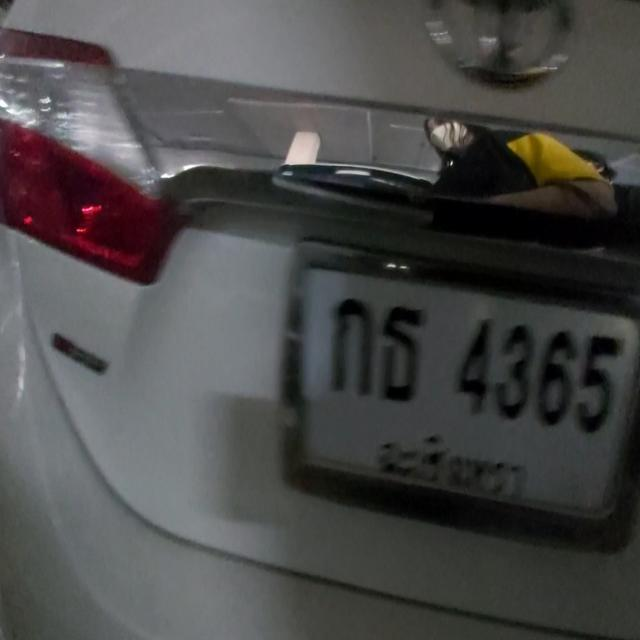license_plate: (306, 263, 639, 522)
